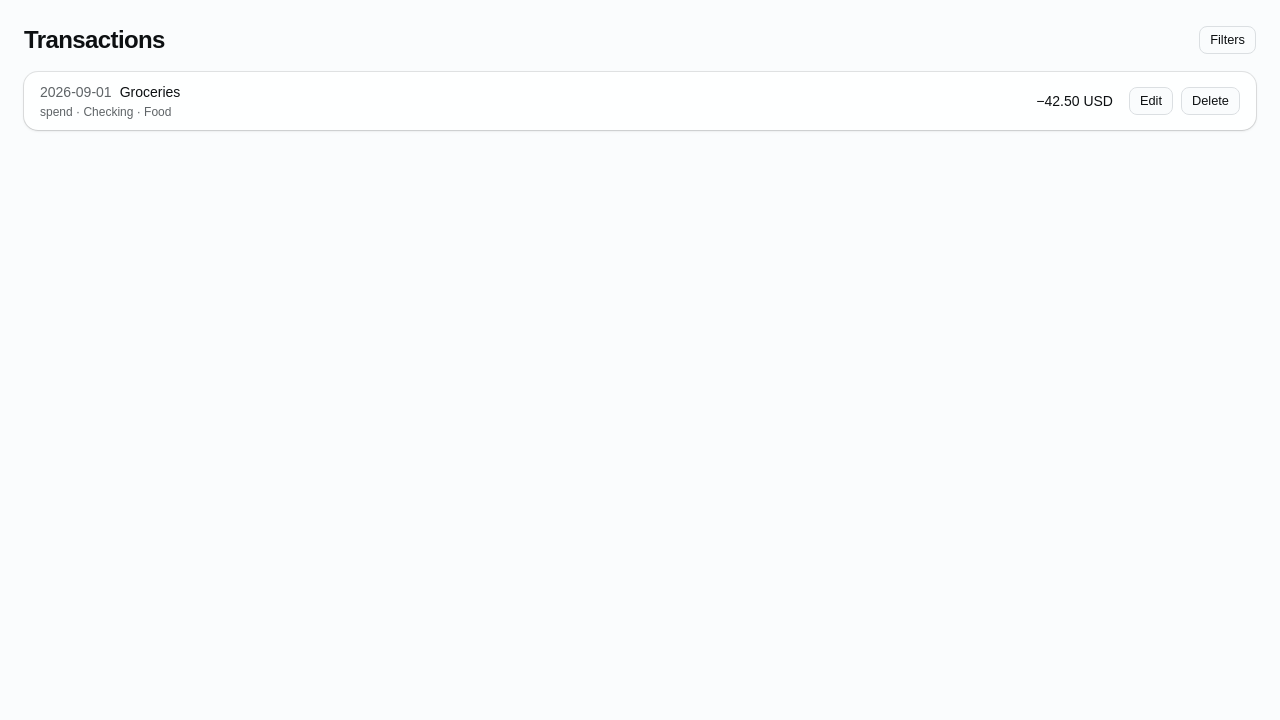
Test: TransactionsList › edits a transaction via the dialog, sending the full replacement body
The image size is (1280, 720).
Expected: the text "Groceries" is shown, [120,82,180,102]
Step 1. Click the button "Edit" → (1151, 101), box [1129,87,1173,115]
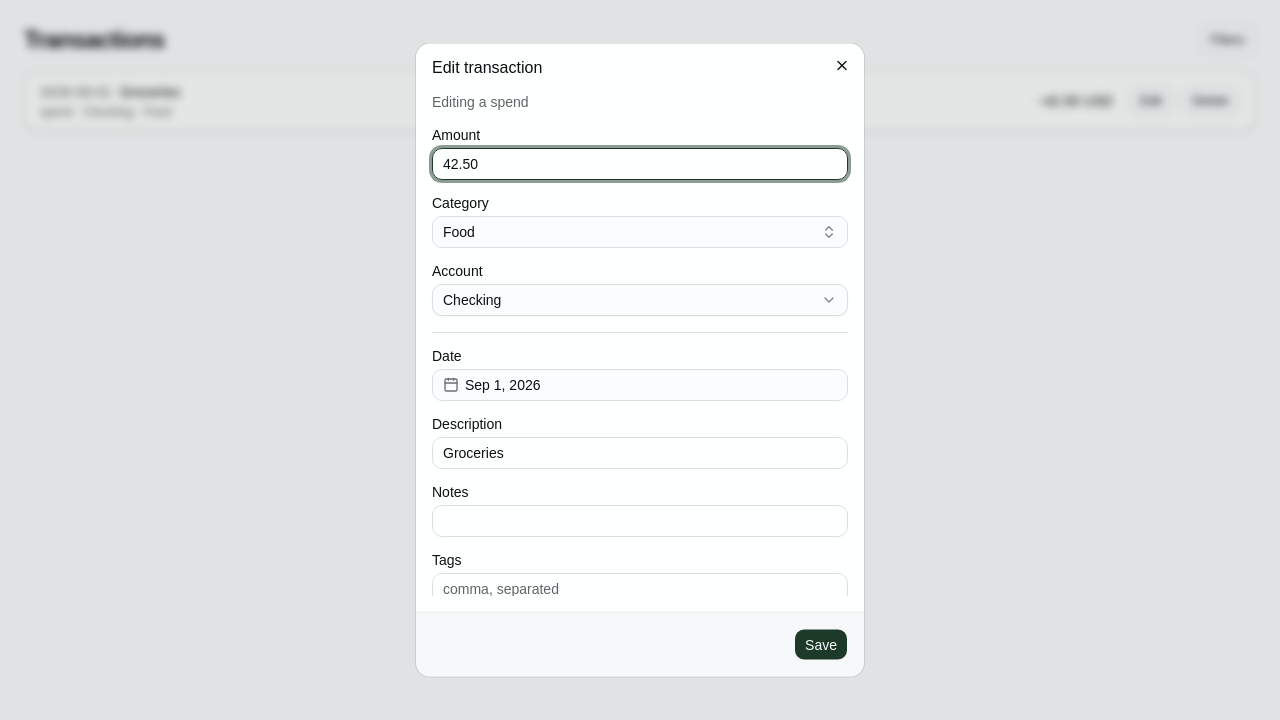
Step 2. Replace the text in the field labelled "Amount" with "50.00" → (640, 164), box [432,148,848,180]
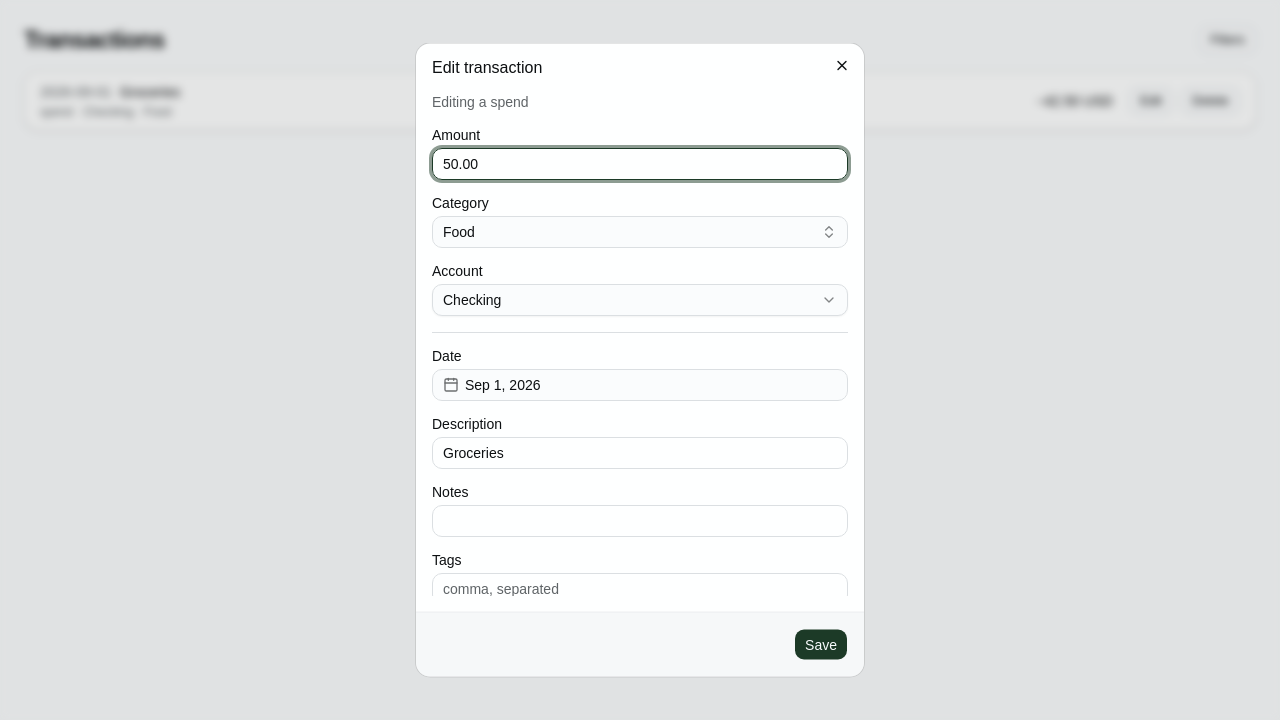
Step 3. Click the button "Save" → (821, 644), box [794,628,848,660]
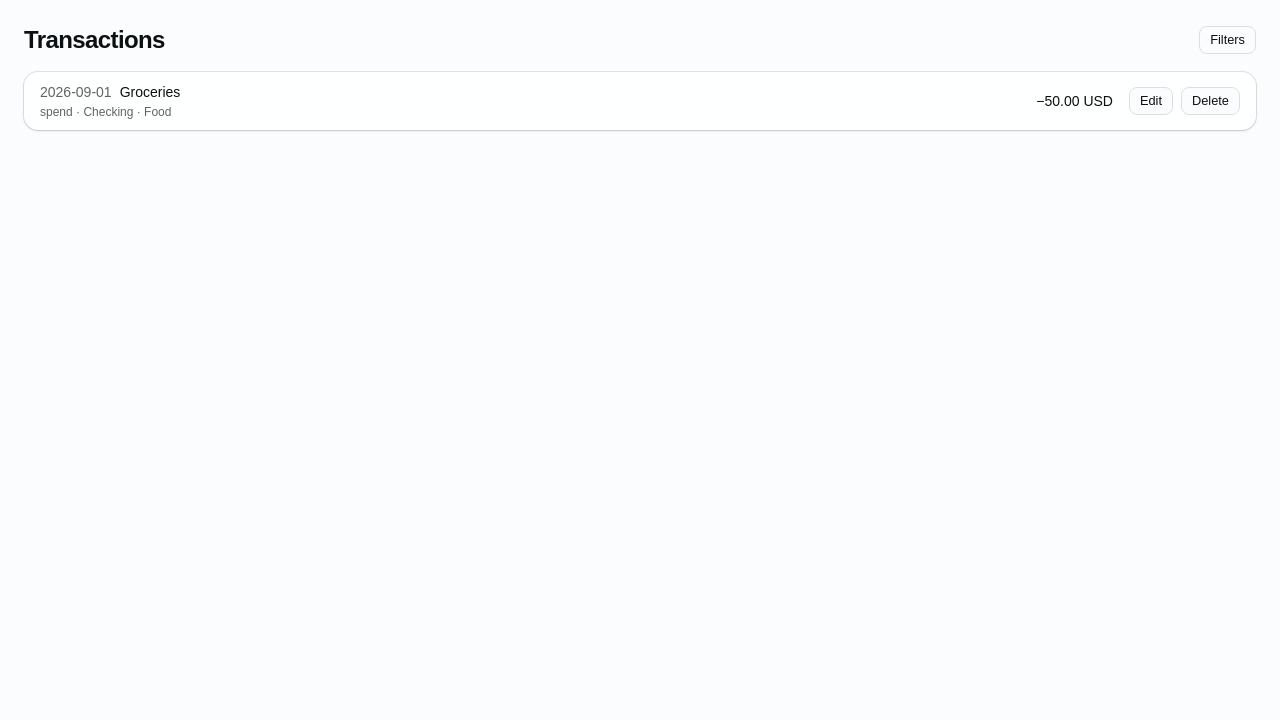
Result: the text "−50.00 USD" is shown at [1036,91,1113,111]
